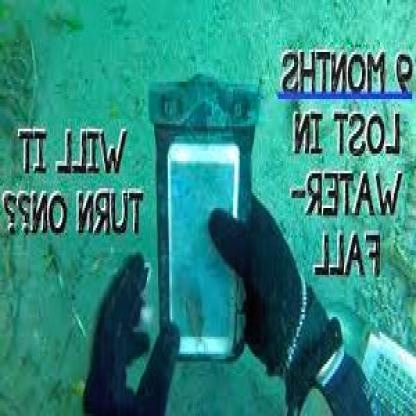cellphone: (164, 138, 244, 362)
